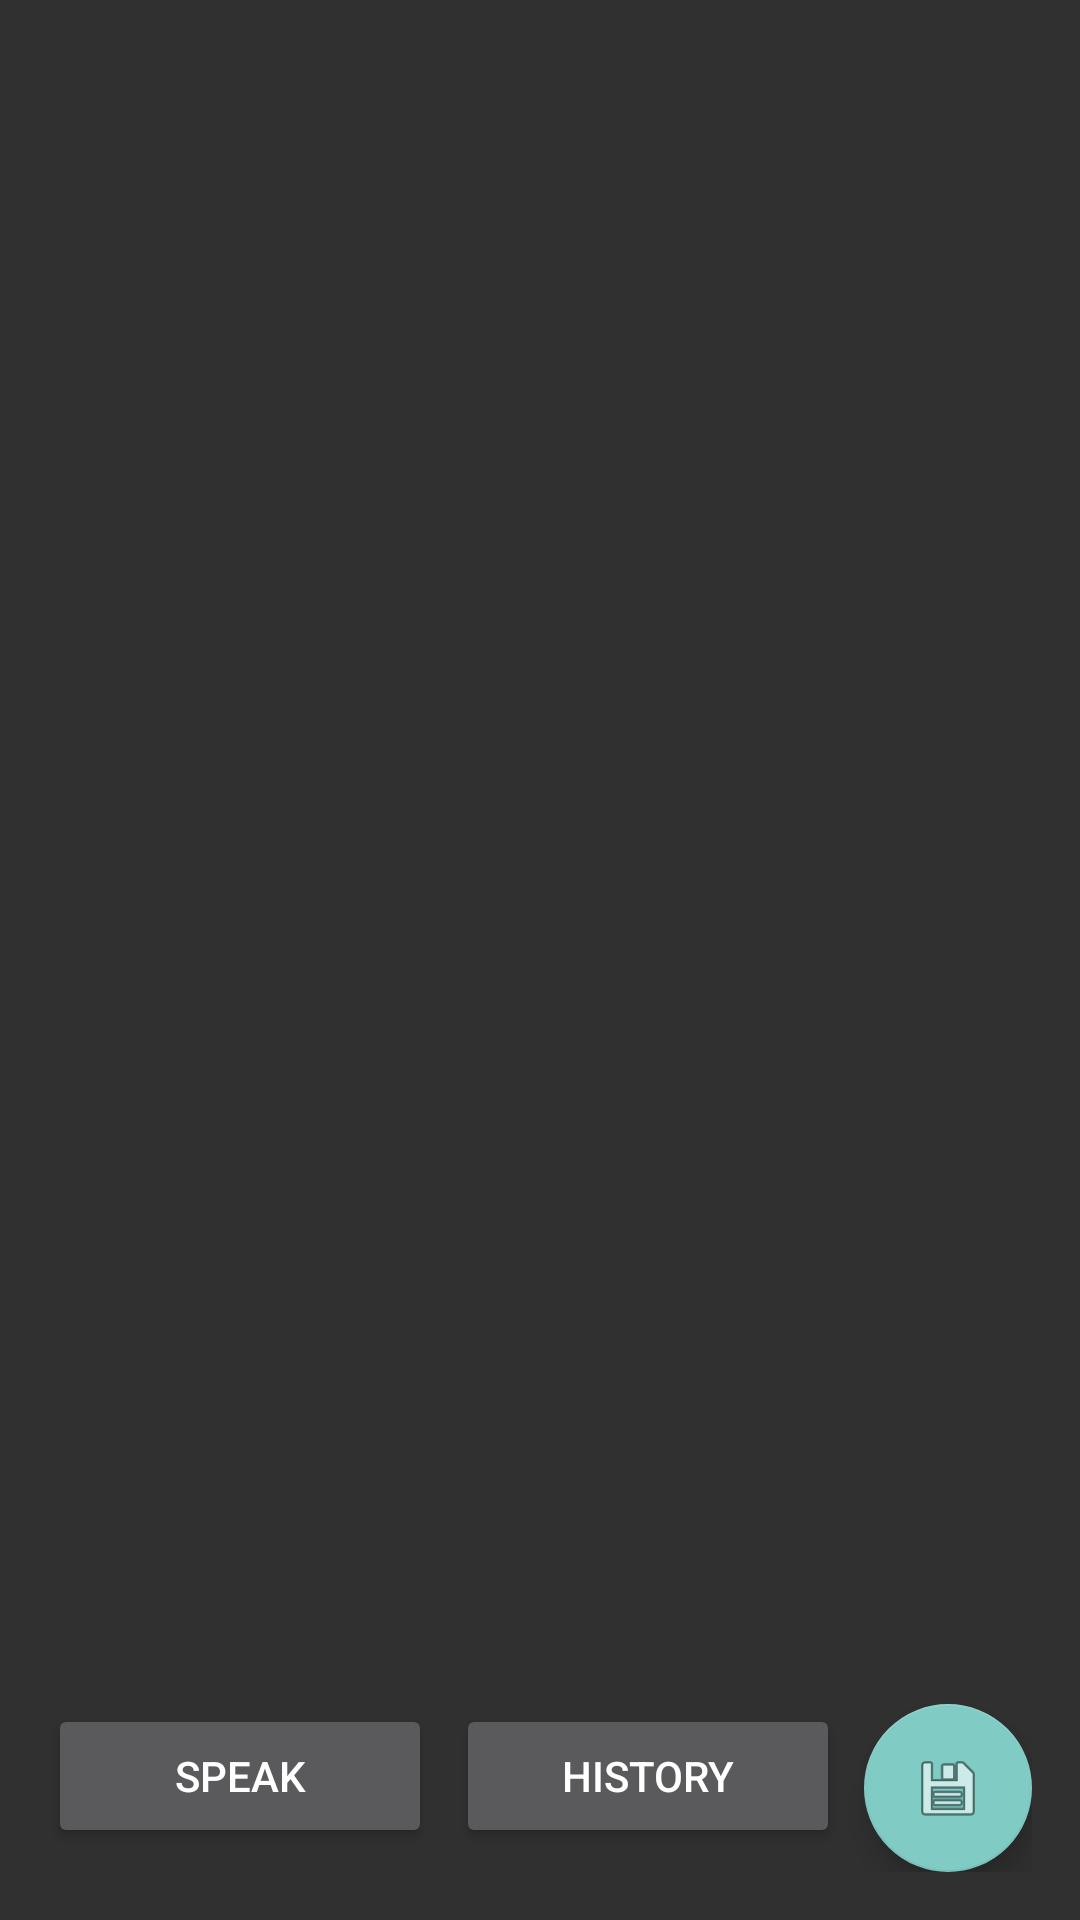

Named icons in this screenshot (1080*1920) and their centers, point (x, y):
Save to Favorites: point (948, 1788)
